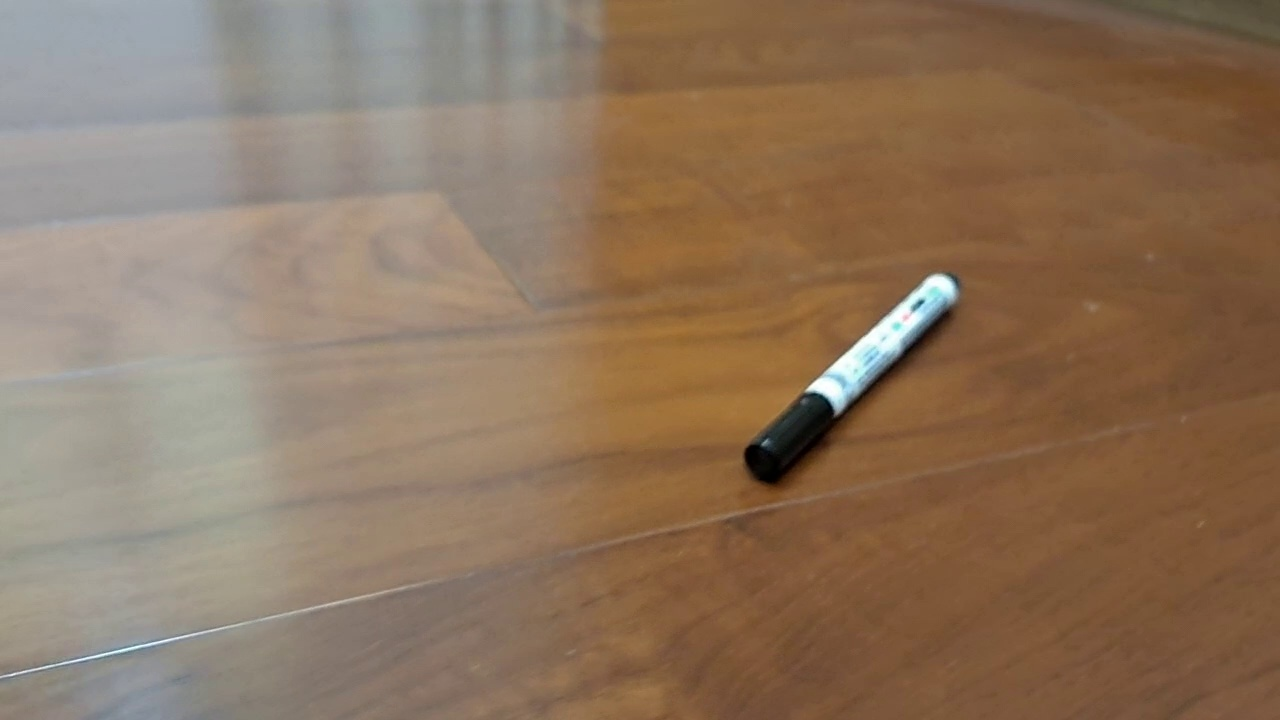pen: (743, 271, 961, 485)
